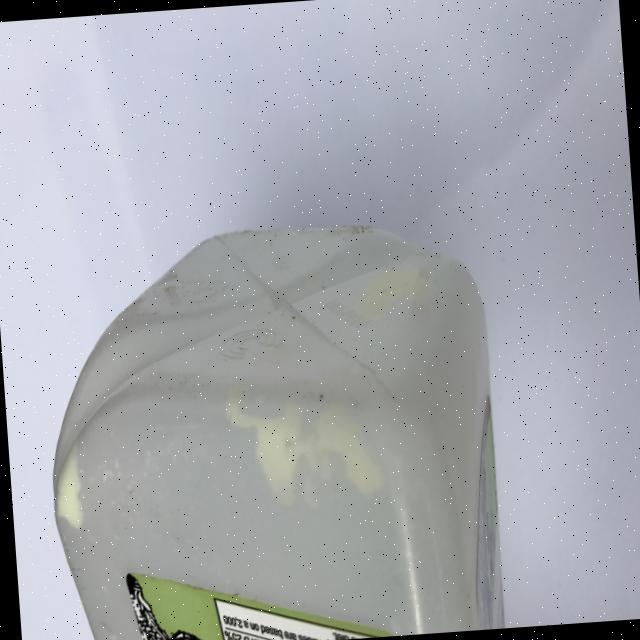plastic: (35, 211, 508, 640)
